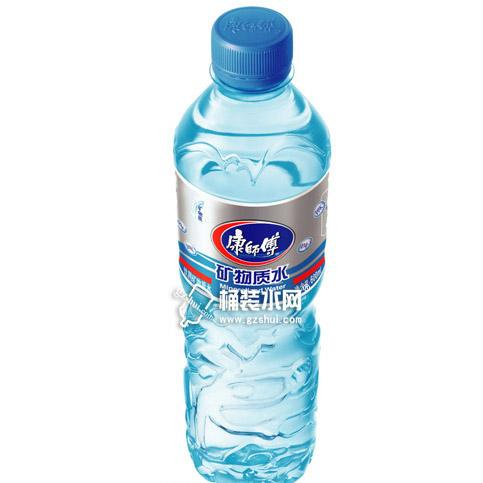amwater: (151, 6, 339, 477)
